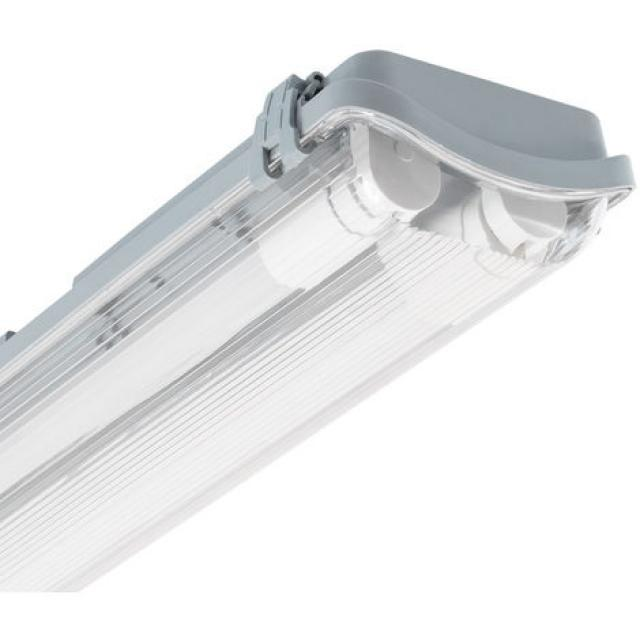Straight-Tube-Fluorescent-Lamp: (8, 167, 586, 578), (14, 128, 446, 538)
